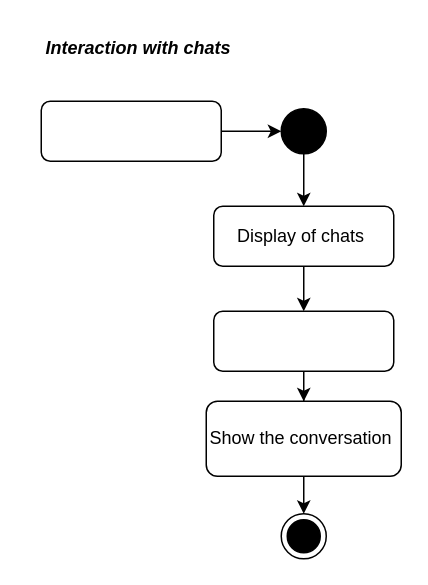
Image size: 428x585. Some labels were removed from this diagram. Here are the shapes that lost their labels. From the top down, the centre of each, then its label:
At pixel 130 130: "User introduction".
At pixel 303 340: "Select a chat".
